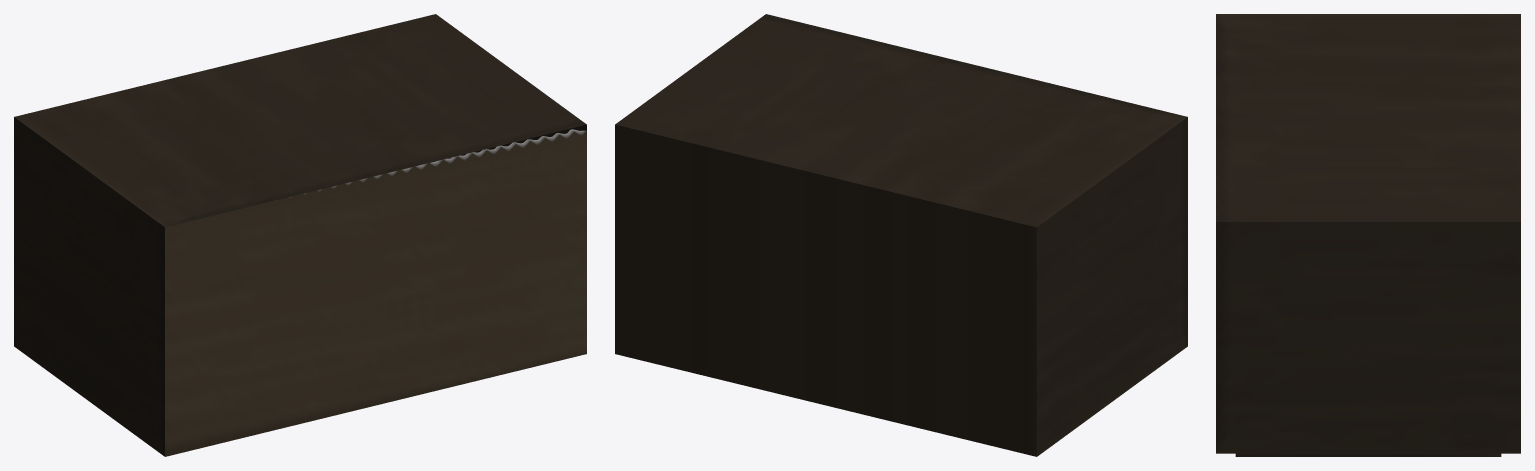
Rendered from pz_counter_dark_wall.obj.
3 views of the same model, side by side, from view 1: azimuth 30°, elevation 25°; view 2: azimuth 150°, elevation 25°; view 3: azimuth 270°, elevation 25° (orthographic).
Bounding box in the file's own units: 1 × 0.536 × 0.62.
Materials: 1 (1 with a texture image).
